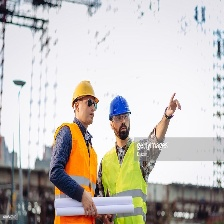helmet: (70, 81, 100, 105), (109, 96, 130, 119)
person: (49, 81, 99, 224), (102, 95, 150, 224)
vest: (54, 121, 101, 224), (103, 142, 145, 224)
